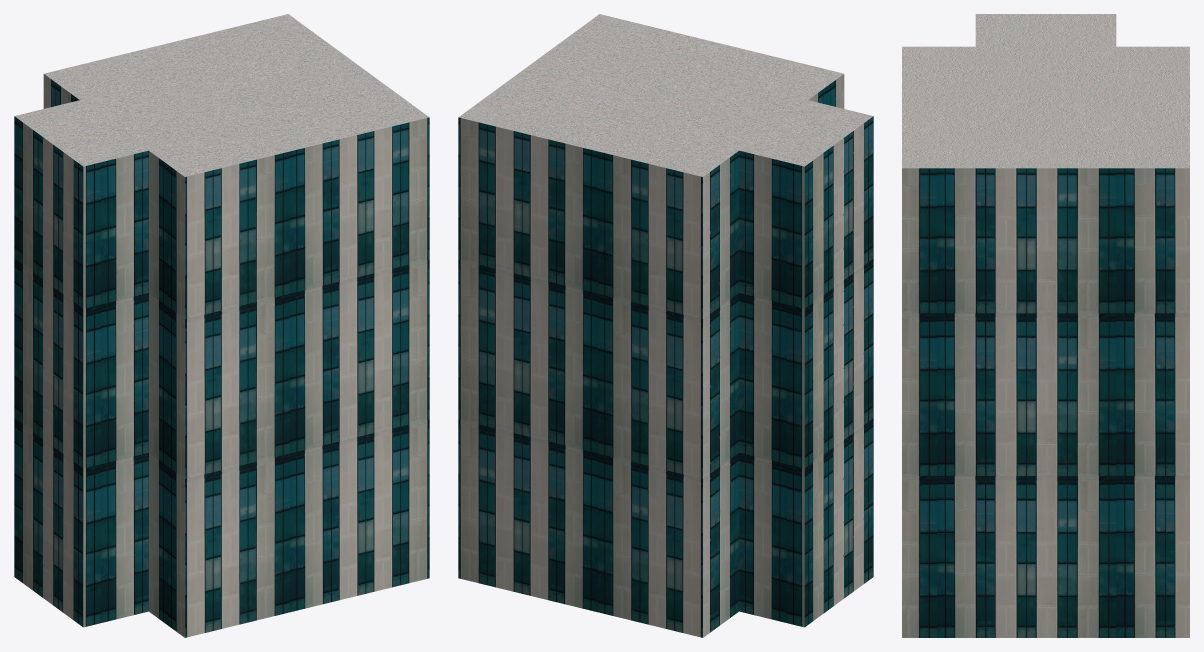
File: building_011_001.glb
3 renders of one model, left to right at view 1: azimuth 30°, elevation 25°; view 2: azimuth 150°, elevation 25°; view 3: azimuth 270°, elevation 25°, orthographic.
Visible parts, largest first — view 1: building_011.001; view 2: building_011.001; view 3: building_011.001.
Boxes of the visible parts, x1=… form: building_011.001: x1=14, y1=14, x2=429, y2=637; building_011.001: x1=458, y1=14, x2=873, y2=637; building_011.001: x1=902, y1=14, x2=1189, y2=637.
Bounding box in the file's own units: 1268 × 1800 × 1000.
2 materials, 2 textured.
